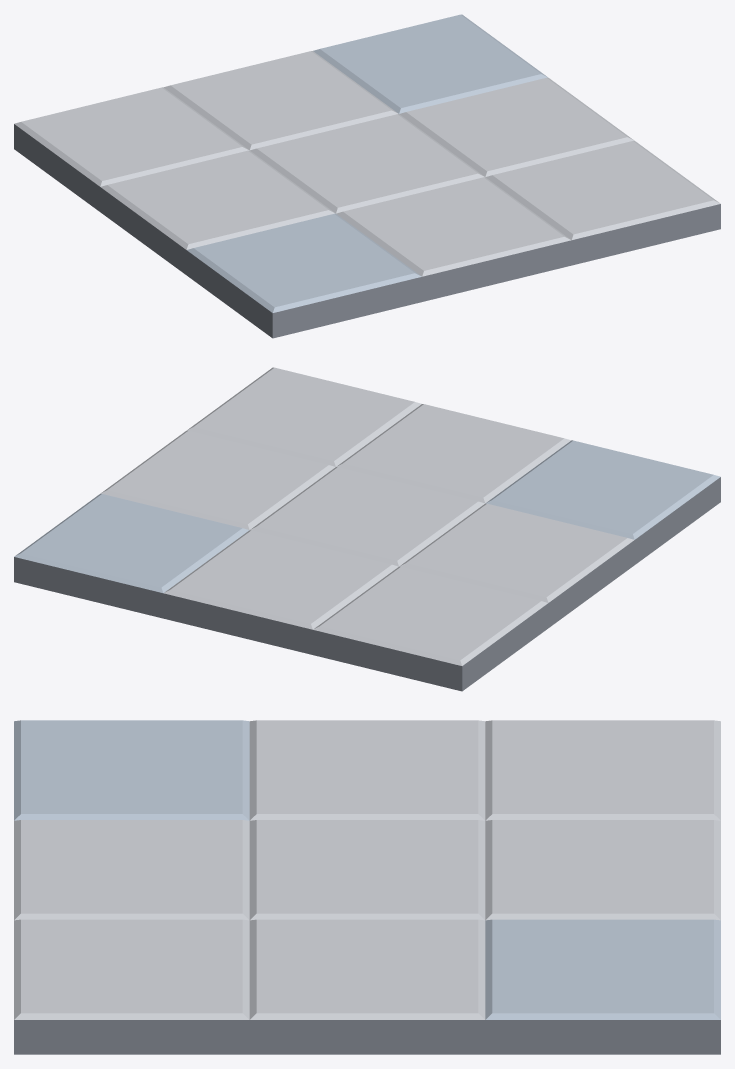
File: boden_fliese_b.glb
3 renders of one model, top to bottom at view 1: azimuth 30°, elevation 25°; view 2: azimuth 150°, elevation 25°; view 3: azimuth 270°, elevation 25°, orthographic. The views are drawn at different scales.
Parts seen in each view (by area): view 1: boden_fliese_b; view 2: boden_fliese_b; view 3: boden_fliese_b.
Part boxes in pixels (left/top/right/bottom): boden_fliese_b: left=14, top=14, right=720, bottom=338; boden_fliese_b: left=14, top=367, right=720, bottom=691; boden_fliese_b: left=14, top=720, right=720, bottom=1054.
Bounding box in the file's own units: 1 × 0.06 × 1.
